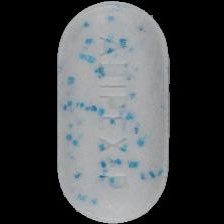55289-379: (0, 0, 224, 224)
